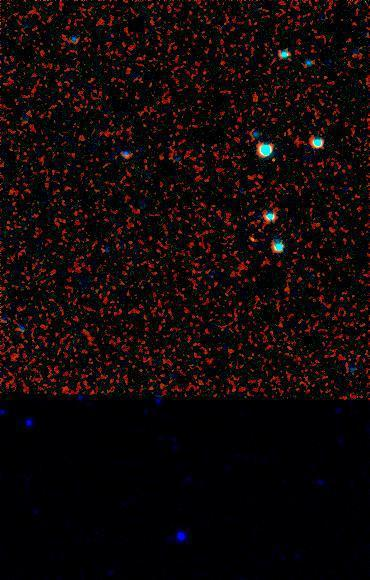star: (260, 144, 290, 174)
